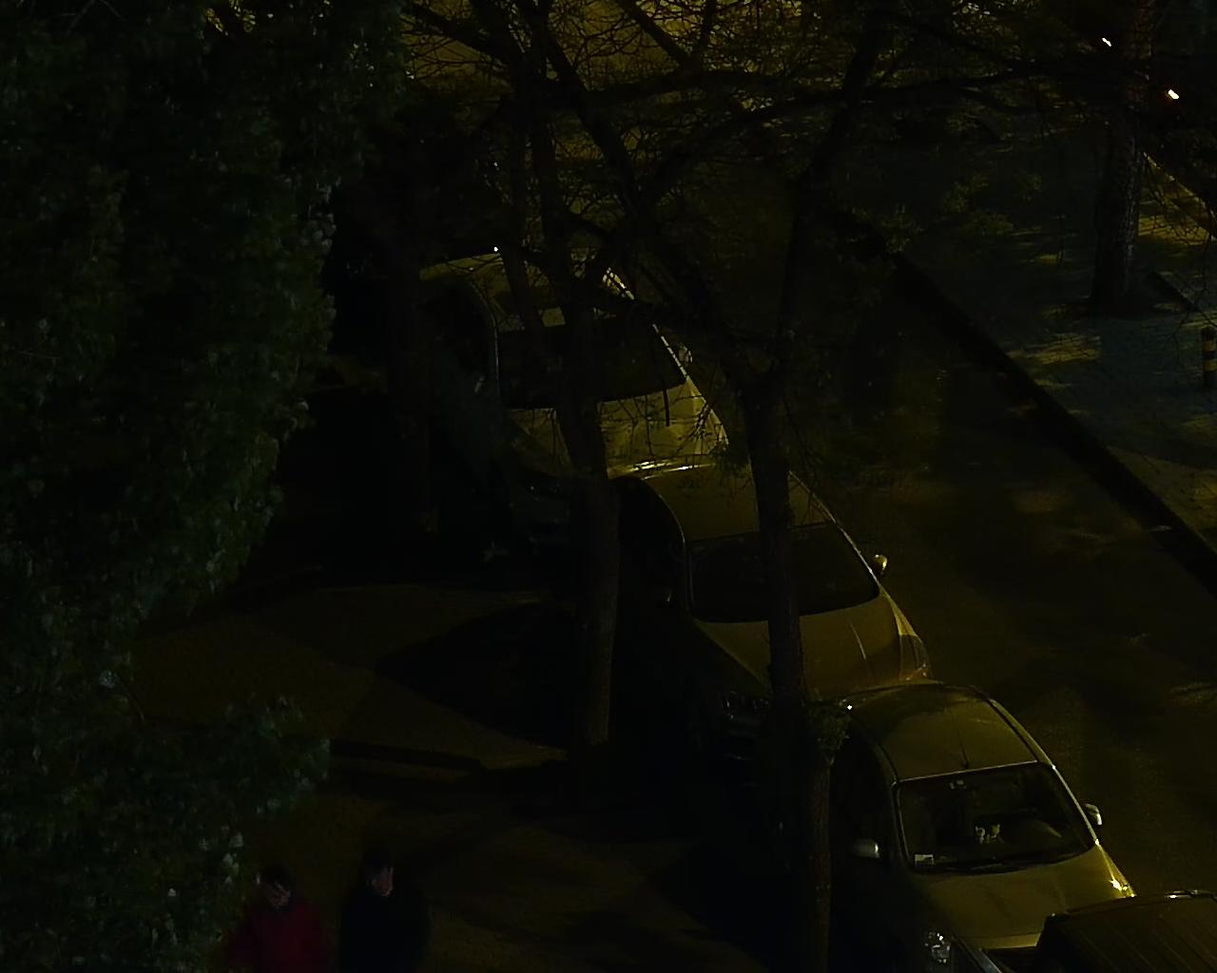person: (340, 849, 429, 973), (228, 868, 332, 973)
